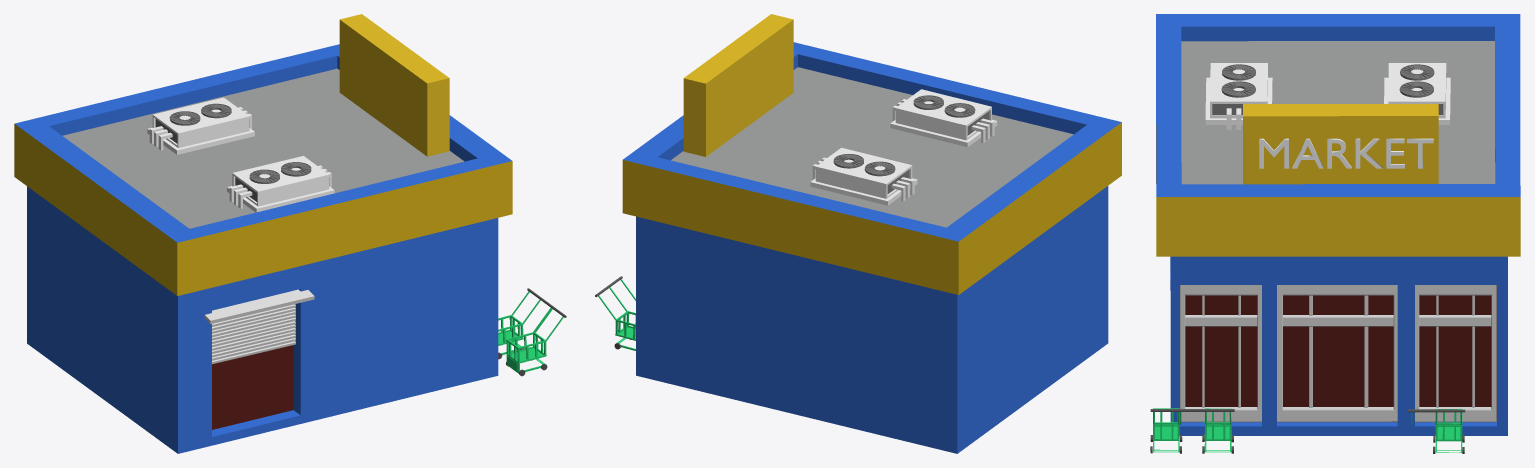
File: Market2.glb
The picture shows the model from 3 angles, left to right: view 1: azimuth 30°, elevation 25°; view 2: azimuth 150°, elevation 25°; view 3: azimuth 270°, elevation 25°; orthographic projection. The views are drawn at different scales.
Visible parts, largest first — view 1: Main_Building.001, Cube.13766, Cube.13765, Shutter_4.011, Shutter_4.012; view 2: Main_Building.001, Cube.13766, Cube.13765; view 3: Main_Building.001, London Police Service Headquarters, 601 Dundas St, London, . (×3), Cube.13765, Cube.13766, Text.046.
Boxes of the visible parts, left/top/right/bottom form: Main_Building.001: left=14, top=14, right=512, bottom=453; Cube.13766: left=147, top=97, right=254, bottom=154; Cube.13765: left=227, top=156, right=334, bottom=212; Shutter_4.011: left=212, top=304, right=295, bottom=364; Shutter_4.012: left=204, top=289, right=314, bottom=323; Main_Building.001: left=622, top=14, right=1121, bottom=453; Cube.13766: left=810, top=147, right=917, bottom=205; Cube.13765: left=890, top=89, right=997, bottom=147; Main_Building.001: left=1156, top=14, right=1520, bottom=435; London Police Service Headquarters, 601 Dundas St, London, . (×3): left=1180, top=285, right=1496, bottom=422; Cube.13765: left=1205, top=63, right=1272, bottom=129; Cube.13766: left=1384, top=63, right=1450, bottom=124; Text.046: left=1259, top=138, right=1433, bottom=168.
Bounding box in the file's own units: 0.2849 × 0.1954 × 0.2108.
